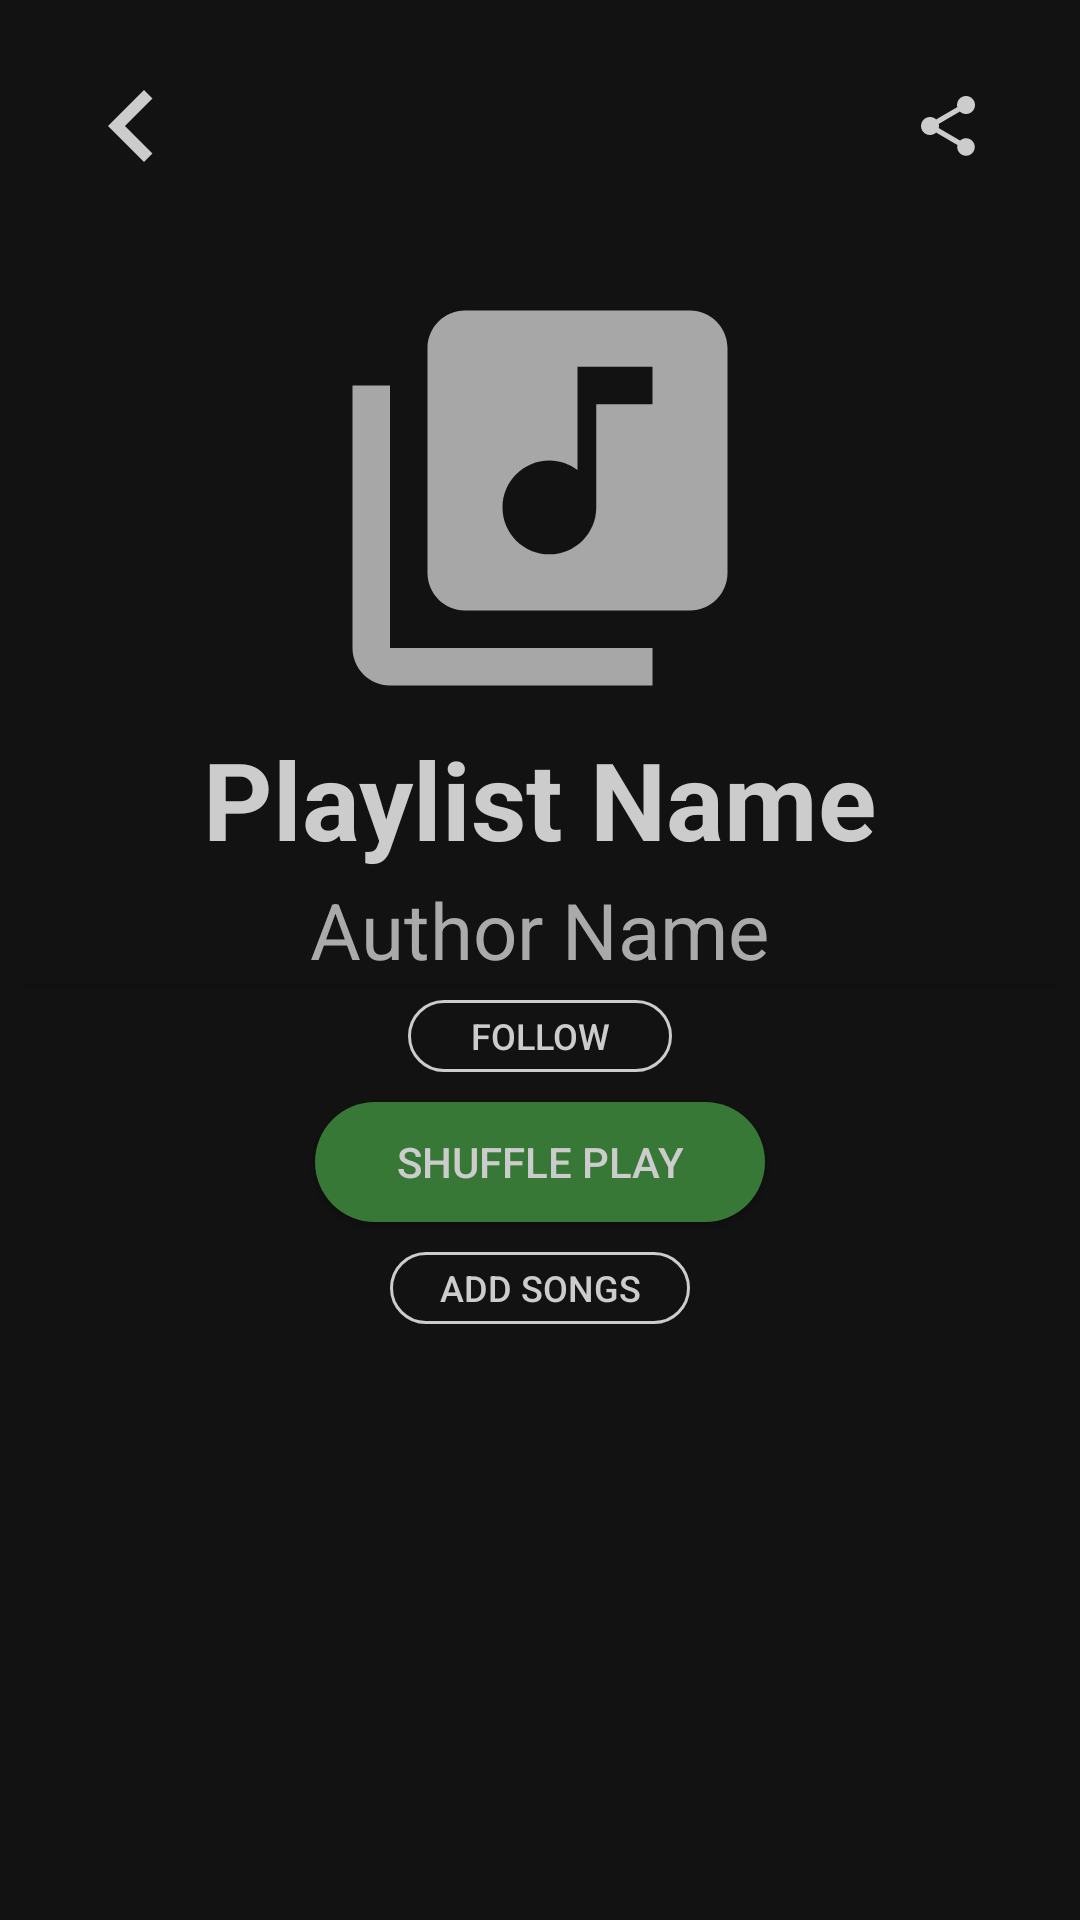

Named icons in this screenshot (1080×1920) and their bounding boxes, (x1, y1, x2, y2):
back arrow: (108, 90, 153, 162)
share: (921, 96, 975, 156)
